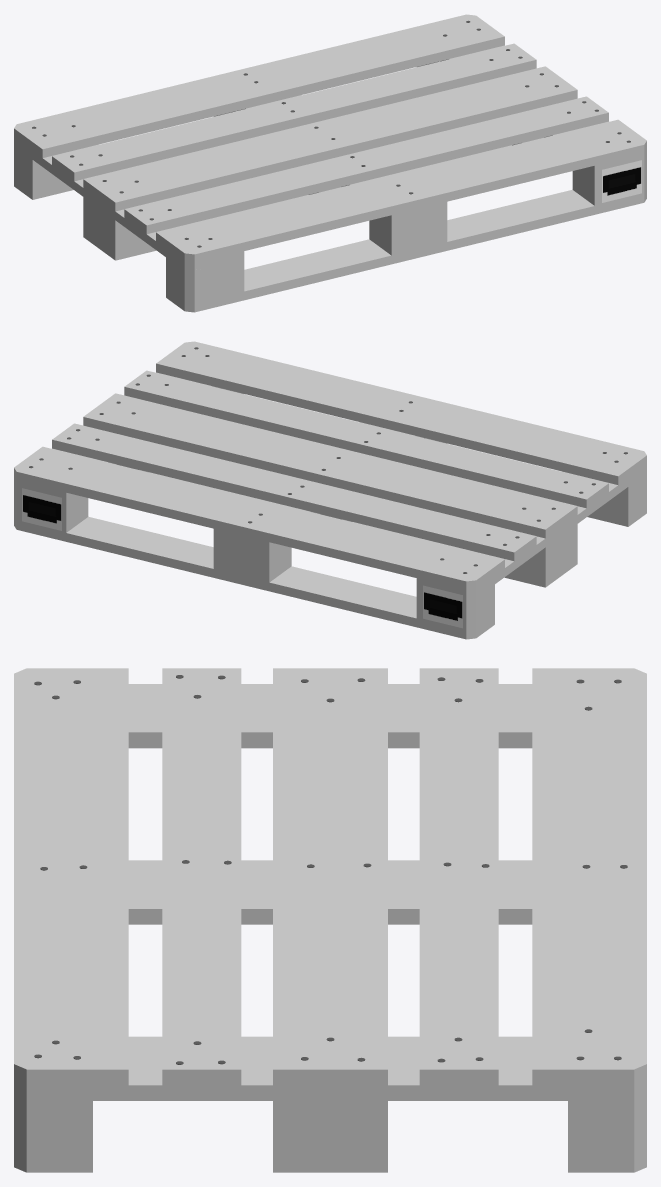
File: euro_pallet_FINAL.dae
3 views of the same model, one above another, from view 1: azimuth 30°, elevation 25°; view 2: azimuth 150°, elevation 25°; view 3: azimuth 270°, elevation 25° (orthographic). The views are drawn at different scales.
Visible parts, largest first — view 1: Cube.019, EPAL.002, Cylinder.000; view 2: Cube.019, EPAL, EPAL.001, Cylinder.000; view 3: Cube.019, Cylinder.000.
Part boxes in pixels (x1,y1,x2,y2): Cube.019: (14, 14, 646, 312); EPAL.002: (602, 160, 641, 202); Cylinder.000: (32, 20, 630, 247); Cube.019: (14, 341, 646, 639); EPAL: (22, 488, 61, 530); EPAL.001: (423, 585, 462, 628); Cylinder.000: (29, 347, 627, 573); Cube.019: (14, 668, 646, 1172); Cylinder.000: (34, 675, 627, 1064).
Size of the model in its own units: 1.2 by 0.8 by 0.1447.
3 materials, 1 textured.
